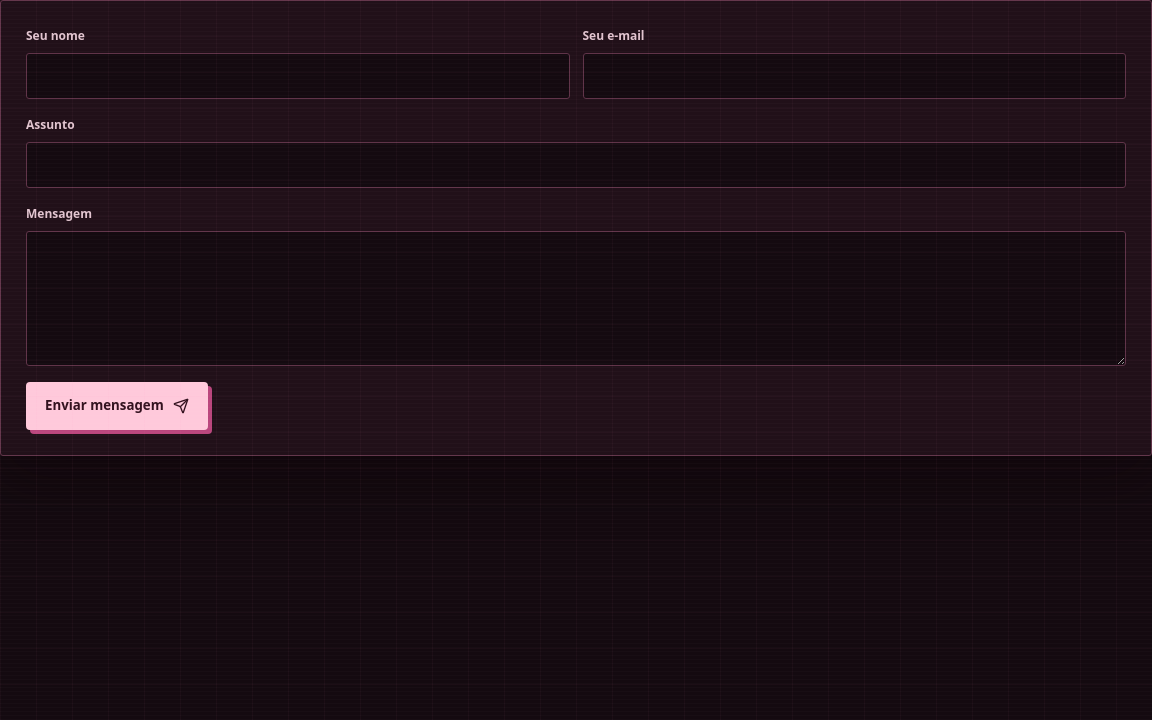
Scenario: formulário de contato › exibe mensagens específicas por campo sem enviar dados inválidos
The image size is (1152, 720).
In the field labelled "Seu nome": (298, 76) left=26, top=53, right=570, bottom=99, type "A"
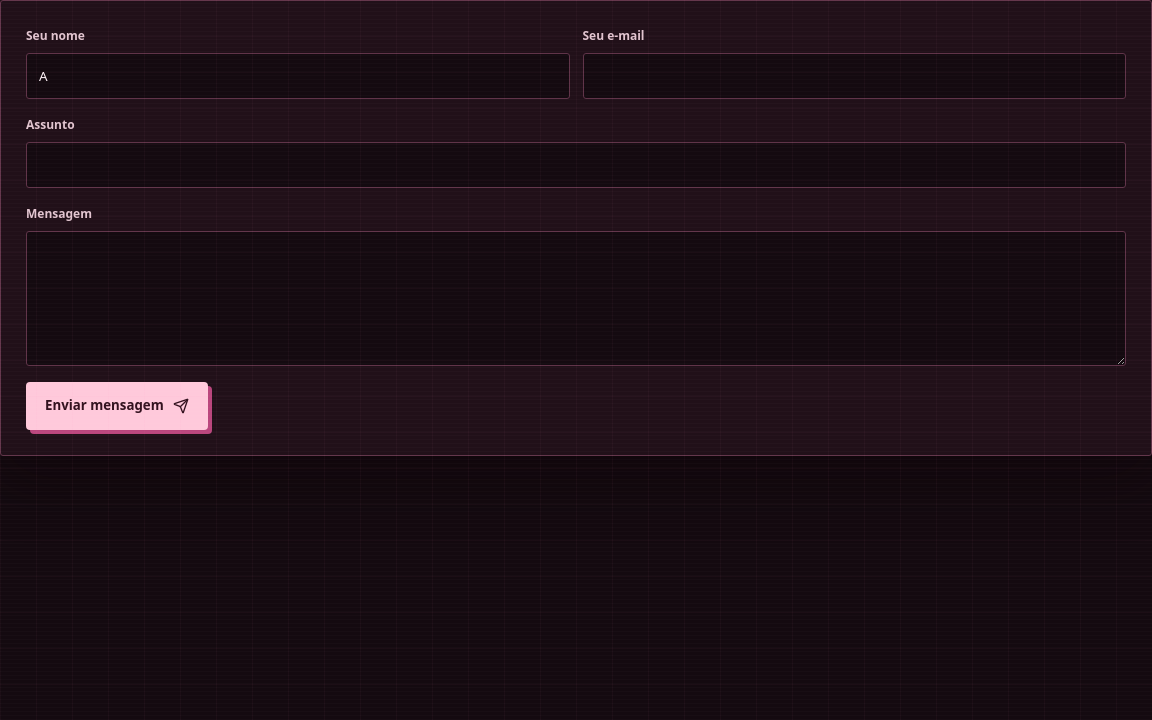
In the field labelled "Seu e-mail": (854, 76) left=582, top=53, right=1126, bottom=99, type "email-invalido"
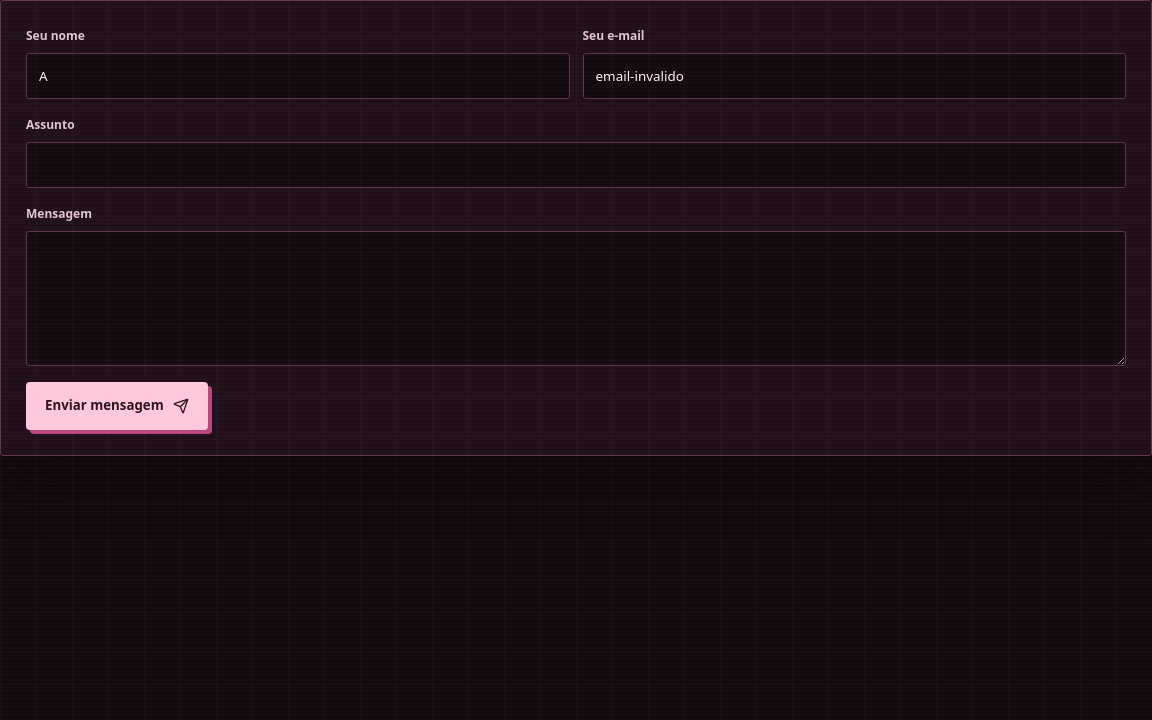
In the field labelled "Assunto": (576, 165) left=26, top=142, right=1126, bottom=188, type "Oi"
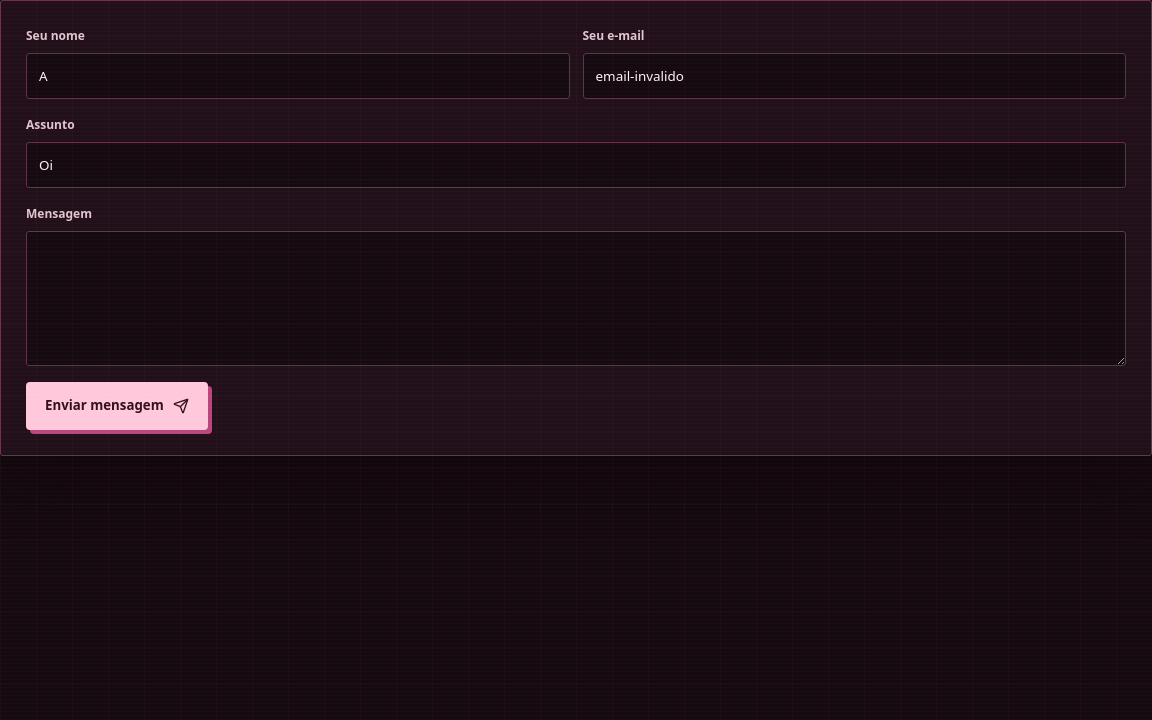
In the text box labelled "Mensagem": (576, 298) left=26, top=231, right=1126, bottom=366, type "Curta"
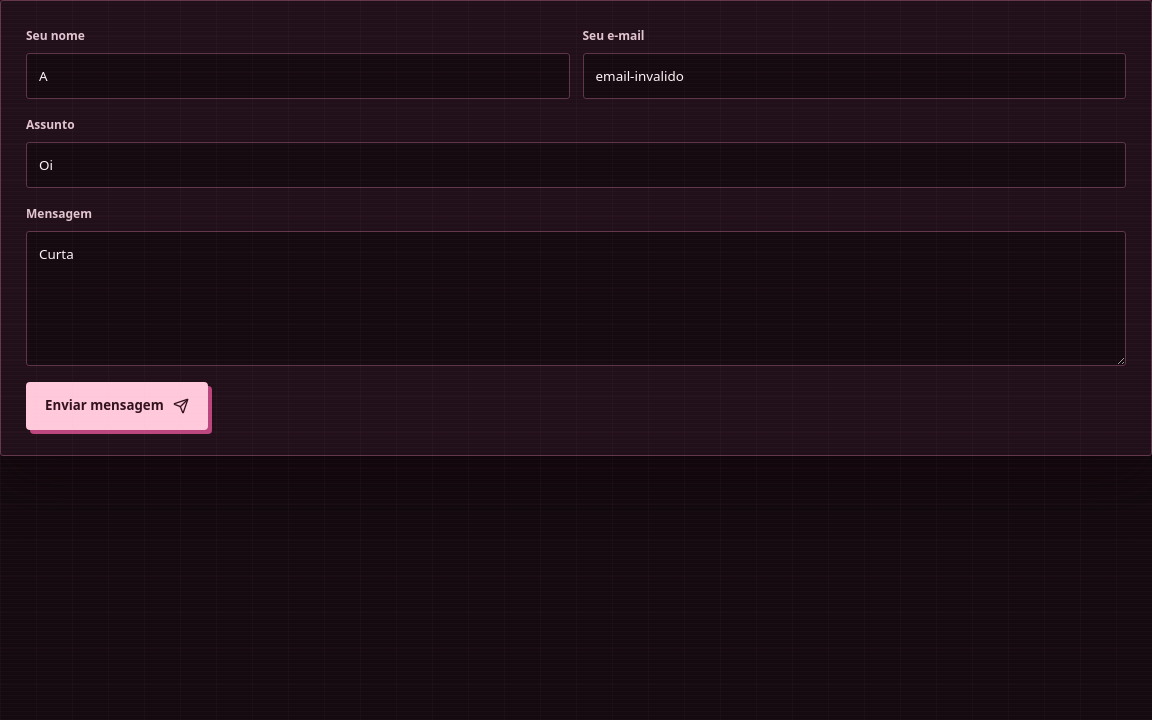
Click the button "Enviar mensagem": (117, 406) left=26, top=382, right=208, bottom=430
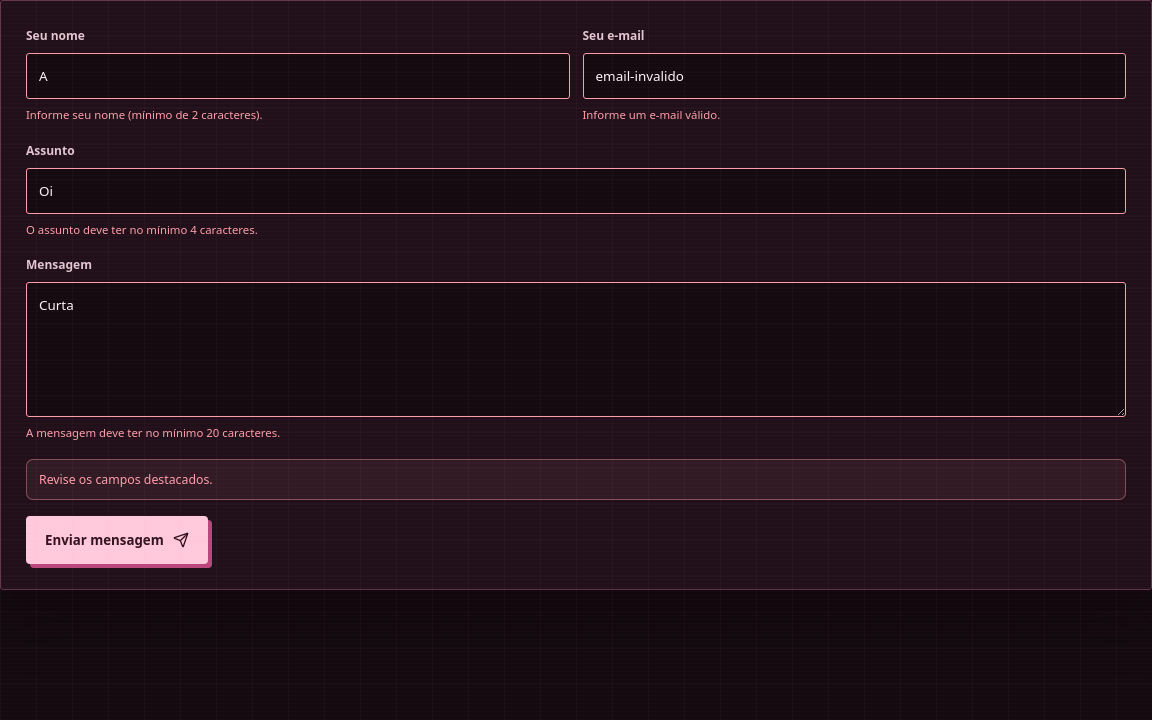
Expected: the text "Informe seu nome (mínimo de 2 caracteres)." is shown, left=26, top=107, right=263, bottom=122
Expected: the text "Informe um e-mail válido." is shown, left=582, top=107, right=720, bottom=122
Expected: the text "O assunto deve ter no mínimo 4 caracteres." is shown, left=26, top=222, right=258, bottom=237
